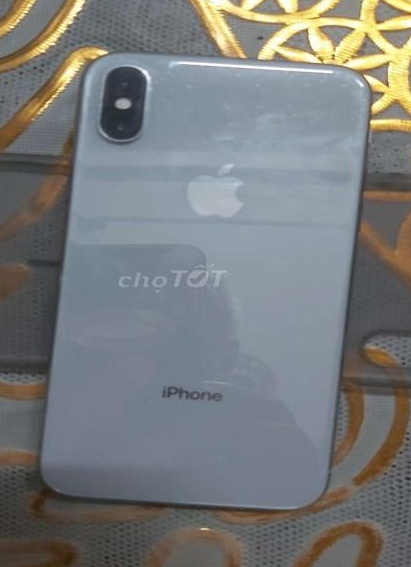scratch: (216, 57, 268, 97), (154, 73, 214, 102), (281, 67, 324, 98), (30, 479, 82, 503), (328, 66, 354, 100), (257, 101, 279, 120), (224, 96, 241, 120)
